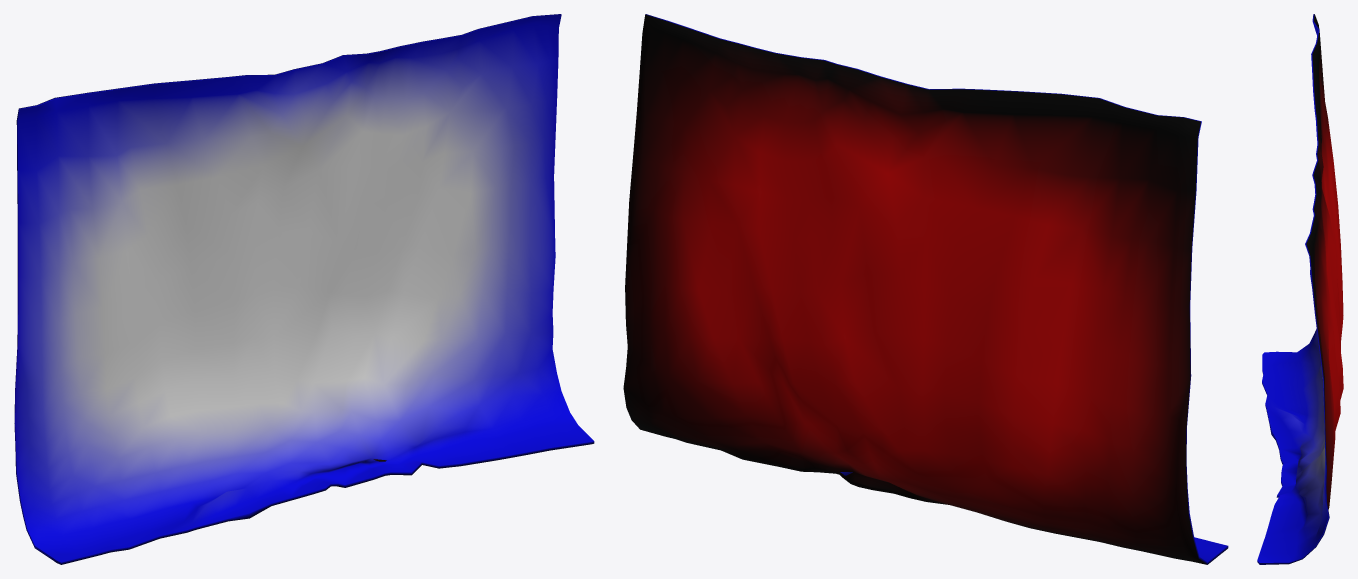
Rendered from Tent_08_Mesh.fbx.
3 renders of one model, left to right at view 1: azimuth 30°, elevation 25°; view 2: azimuth 150°, elevation 25°; view 3: azimuth 270°, elevation 25°, orthographic. The views are drawn at different scales.
Visible parts, largest first — view 1: Tent_08_LOD0; view 2: Tent_08_LOD0; view 3: Tent_08_LOD0.
Boxes of the visible parts, <box> form: Tent_08_LOD0: <box>14,14,594,564</box>; Tent_08_LOD0: <box>623,14,1228,564</box>; Tent_08_LOD0: <box>1257,14,1343,564</box>.
Size of the model in its own units: 32932 by 5801 by 25543.
